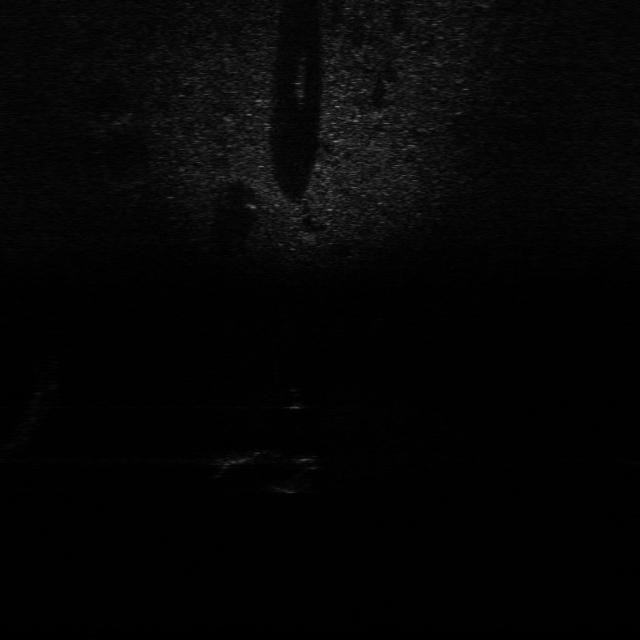ball: (277, 385, 314, 410)
square cage: (207, 446, 258, 469)
tyre: (269, 452, 333, 494)
